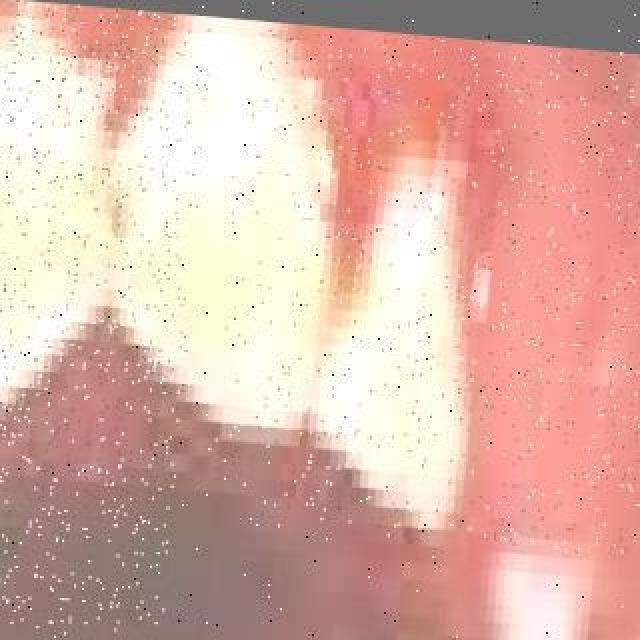maligned: (115, 40, 351, 430), (0, 40, 130, 450)
plaque: (101, 32, 373, 184), (0, 28, 104, 200)
